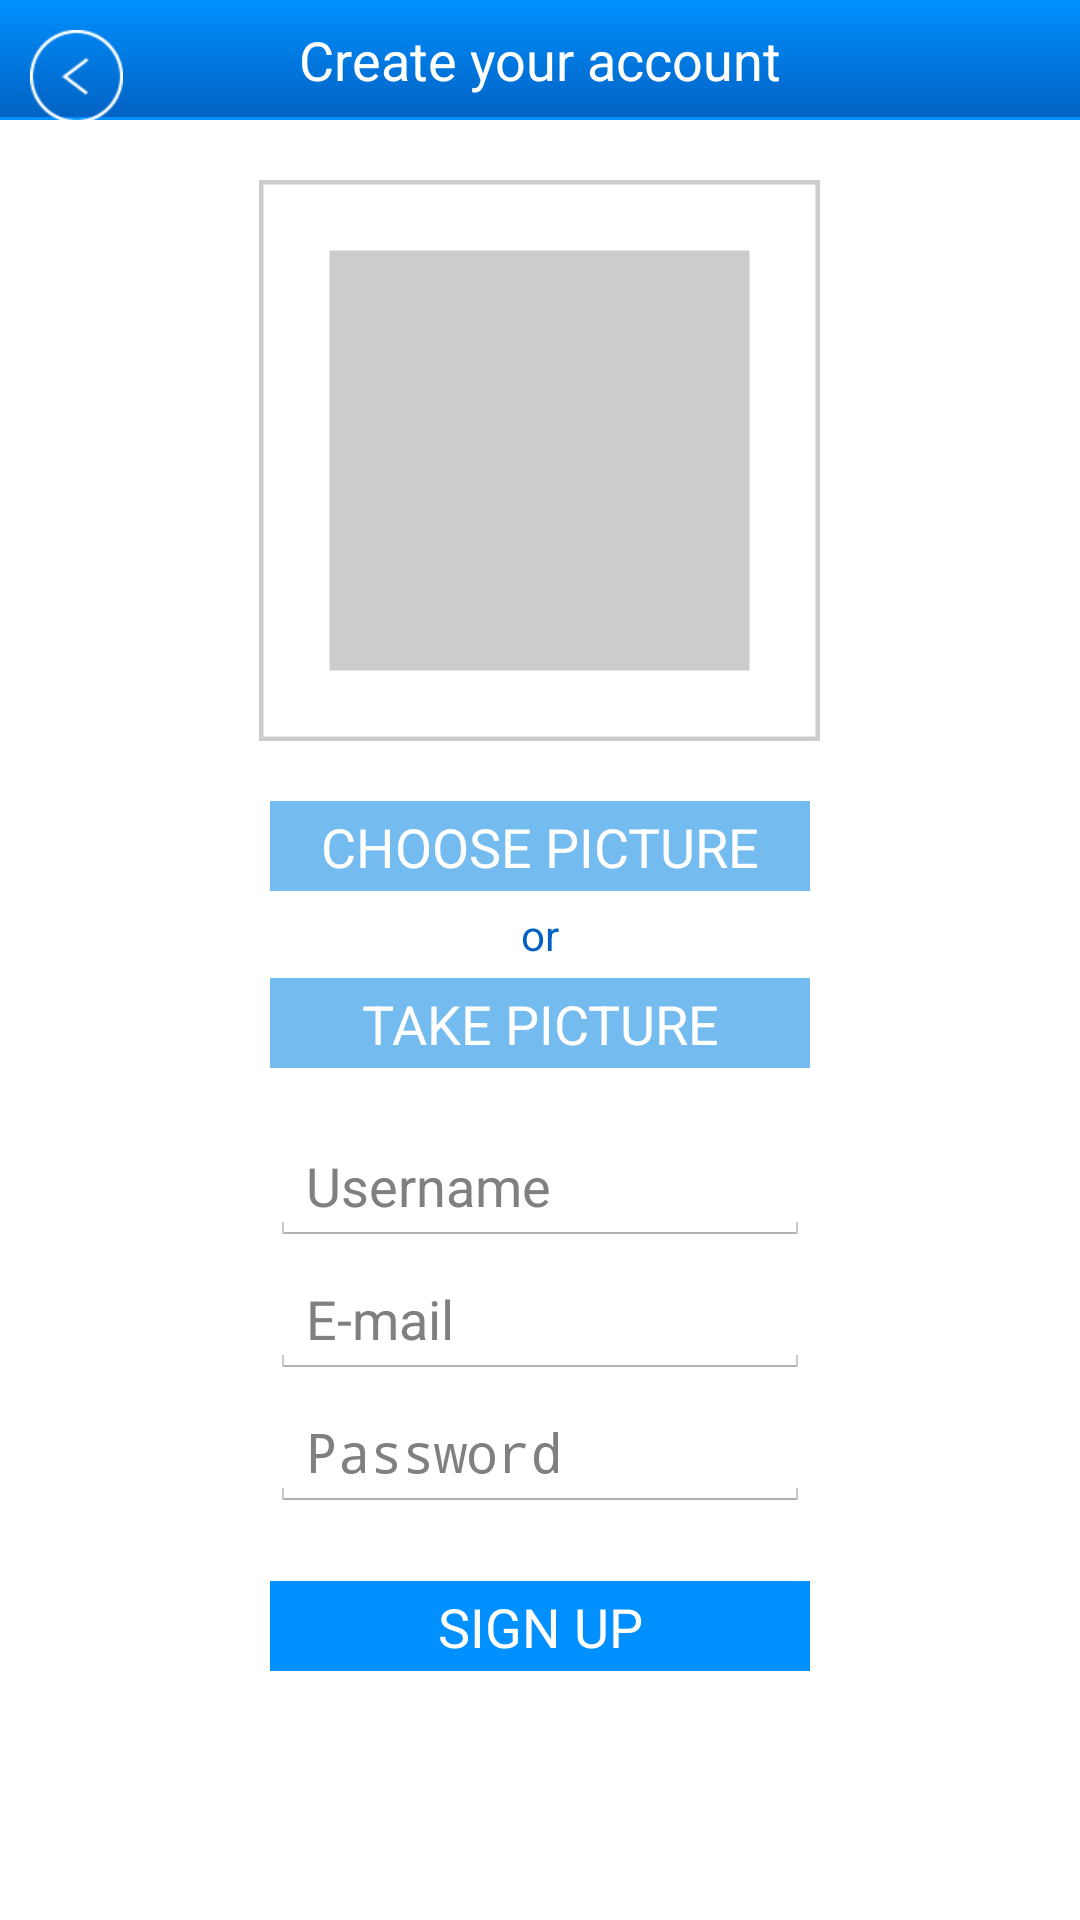

Screen size 1080×1920. Icon name, then its center in pixels as point (x, y):
back: point (76, 76)
